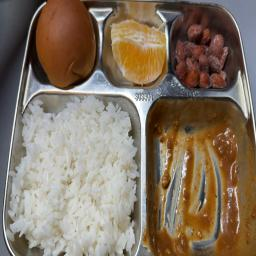100_bread: (32, 0, 100, 90)
100_nuts: (175, 19, 228, 91)
100_orange: (106, 10, 169, 88)
100_rice: (17, 92, 137, 256)
empty: (151, 94, 249, 256)
